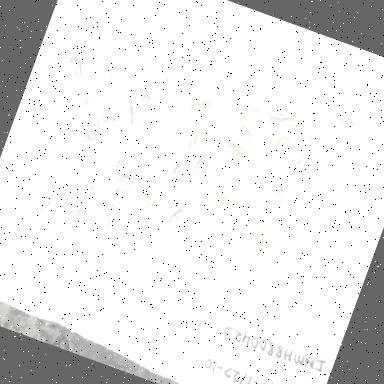pbw: (260, 171, 294, 207), (205, 0, 239, 34), (148, 160, 180, 196), (182, 90, 214, 124), (246, 222, 274, 259), (222, 131, 253, 164), (112, 134, 138, 170), (146, 60, 177, 90), (68, 84, 96, 116), (164, 198, 190, 232), (65, 50, 91, 82), (100, 179, 125, 212), (132, 88, 156, 122), (116, 98, 142, 129), (332, 114, 364, 139), (274, 110, 304, 136), (182, 126, 206, 158), (30, 190, 55, 220), (132, 183, 157, 213), (74, 176, 99, 206), (230, 119, 260, 144), (130, 78, 153, 110), (230, 185, 256, 213), (182, 200, 204, 232), (292, 143, 316, 172), (110, 166, 136, 192), (61, 202, 87, 228), (91, 202, 116, 229), (273, 104, 301, 128), (187, 151, 208, 183), (209, 189, 235, 214), (118, 218, 144, 242), (132, 118, 158, 142), (116, 174, 138, 202), (85, 114, 105, 144), (168, 151, 192, 176), (70, 125, 94, 150), (103, 156, 123, 184), (54, 49, 78, 72), (98, 63, 120, 88), (272, 128, 292, 154), (292, 130, 316, 150), (96, 109, 120, 127)
